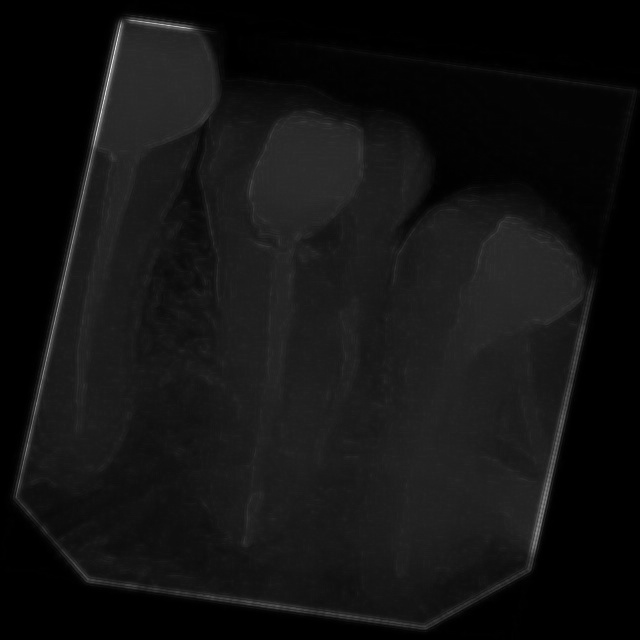Class 0- No endodontic treatment: (291, 152, 613, 618)
Class 1- complete endodontic treatment: (97, 68, 460, 582)
